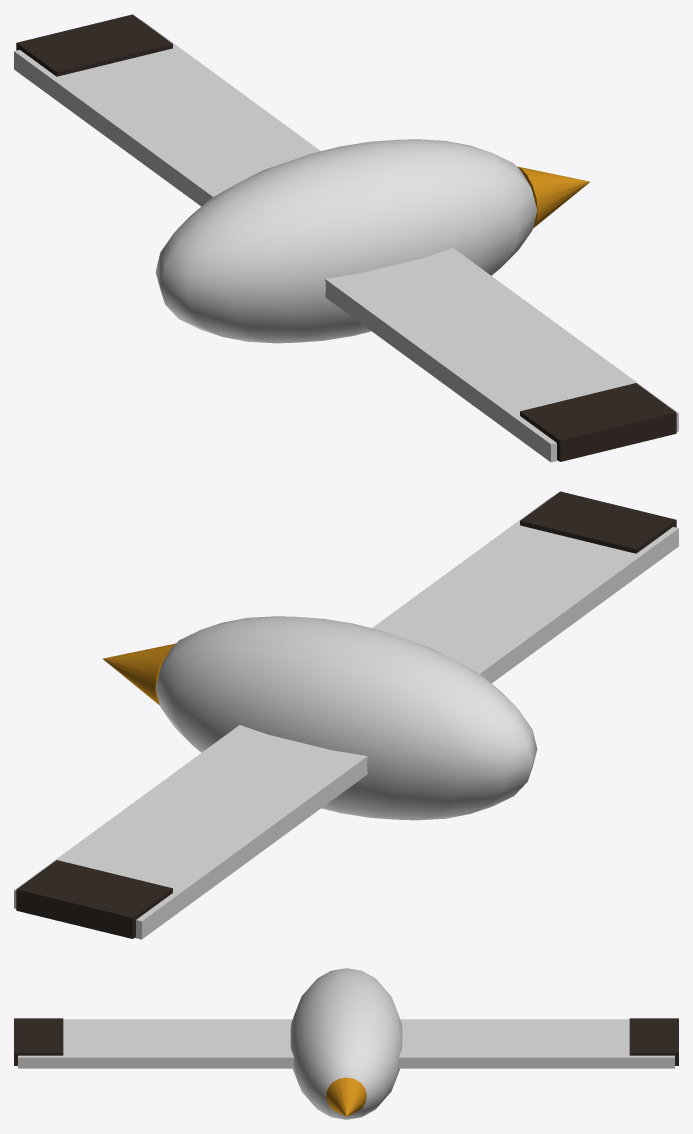
File: gull.glb
3 renders of one model, top to bottom at view 1: azimuth 30°, elevation 25°; view 2: azimuth 150°, elevation 25°; view 3: azimuth 270°, elevation 25°, orthographic. The views are drawn at different scales.
Parts seen in each view (by area): view 1: part_000, part_002, part_001; view 2: part_000, part_001, part_002; view 3: part_001, part_002, part_000.
Boxes of the visible parts, <box> form: part_000: <box>155,139,590,343</box>; part_002: <box>325,248,678,462</box>; part_001: <box>14,14,320,206</box>; part_000: <box>102,616,537,820</box>; part_001: <box>14,725,367,939</box>; part_002: <box>372,491,678,683</box>; part_001: <box>399,1018,678,1068</box>; part_002: <box>14,1018,293,1068</box>; part_000: <box>290,968,402,1119</box>.
Bounding box in the file's own units: 0.74 × 0.28 × 1.62.
